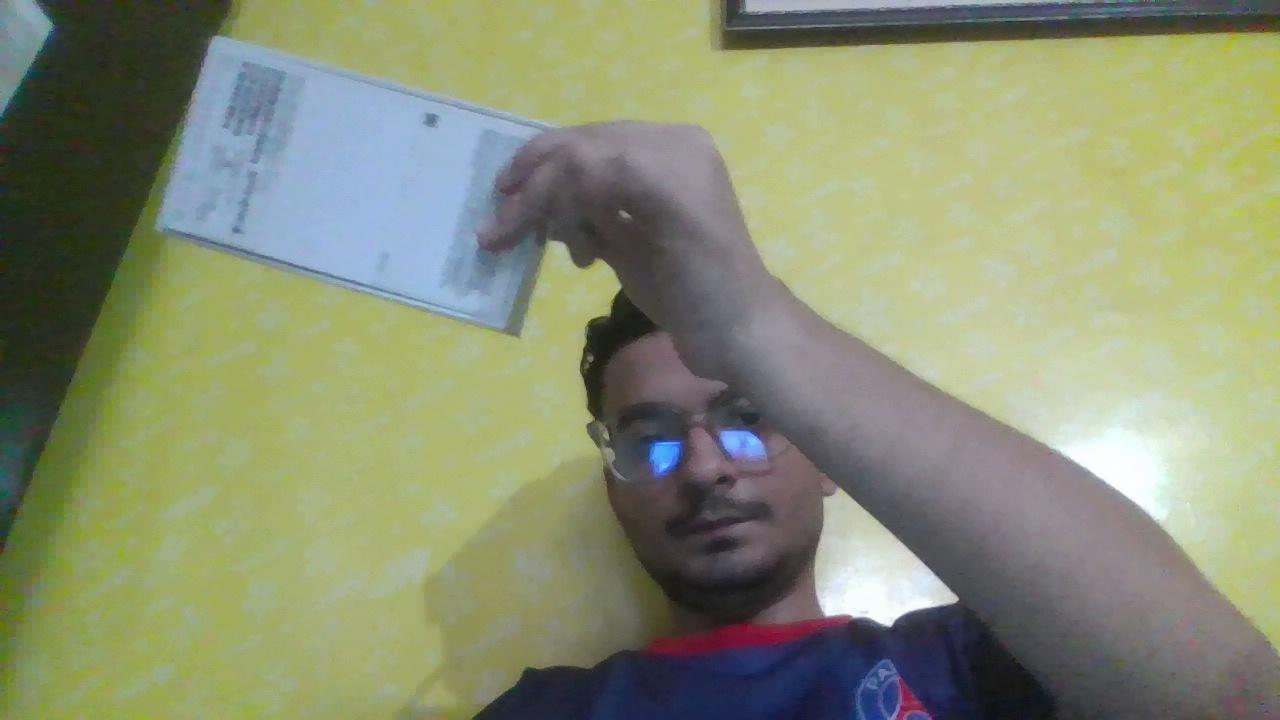Phone: (128, 33, 600, 335)
